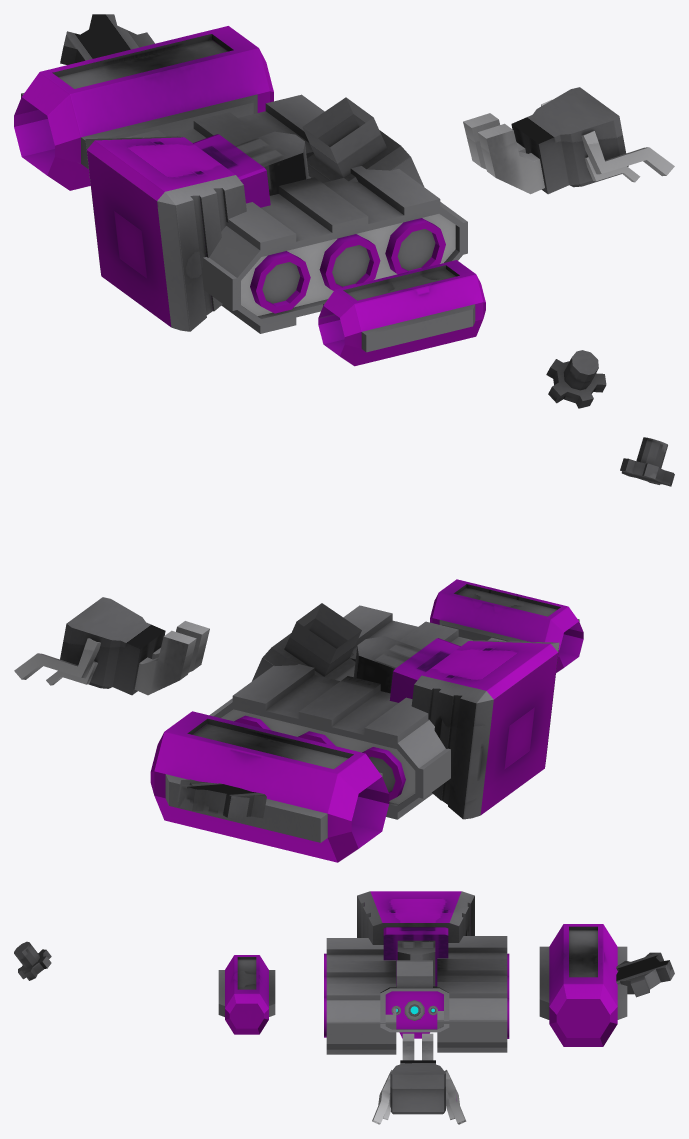
File: Enemy2_Die28.obj
The picture shows the model from 3 angles, top to bottom: view 1: azimuth 30°, elevation 25°; view 2: azimuth 150°, elevation 25°; view 3: azimuth 270°, elevation 25°; orthographic projection. The views are drawn at different scales.
Visible parts, largest first — view 1: Object006, Object013, Object011, Object010, Object014, Object012, Object009, Object008; view 2: Object011, Object013, Object006, Object010, Object014, Object012, Object009, Object008; view 3: Object006, Object011, Object013, Object010, Object012, Object014, Object009, Object008.
Part boxes in pixels (x1,y1,x2,y2): Object006: [125, 94, 467, 333]; Object013: [85, 131, 308, 331]; Object011: [14, 26, 273, 190]; Object010: [463, 87, 674, 194]; Object014: [318, 260, 485, 366]; Object012: [302, 97, 424, 186]; Object009: [60, 14, 154, 64]; Object008: [546, 350, 606, 408]; Object011: [150, 711, 389, 862]; Object013: [353, 636, 559, 819]; Object006: [209, 605, 505, 819]; Object010: [14, 597, 209, 695]; Object014: [430, 579, 583, 672]; Object012: [252, 603, 361, 681]; Object009: [177, 779, 266, 819]; Object008: [620, 437, 674, 486]; Object006: [324, 936, 509, 1054]; Object011: [539, 924, 627, 1046]; Object013: [357, 891, 474, 986]; Object010: [372, 1033, 466, 1124]; Object012: [380, 960, 449, 1038]; Object014: [218, 955, 275, 1034]; Object009: [616, 952, 674, 997]; Object008: [14, 941, 51, 980].
Size of the model in its own units: 193 by 51.67 by 325.
